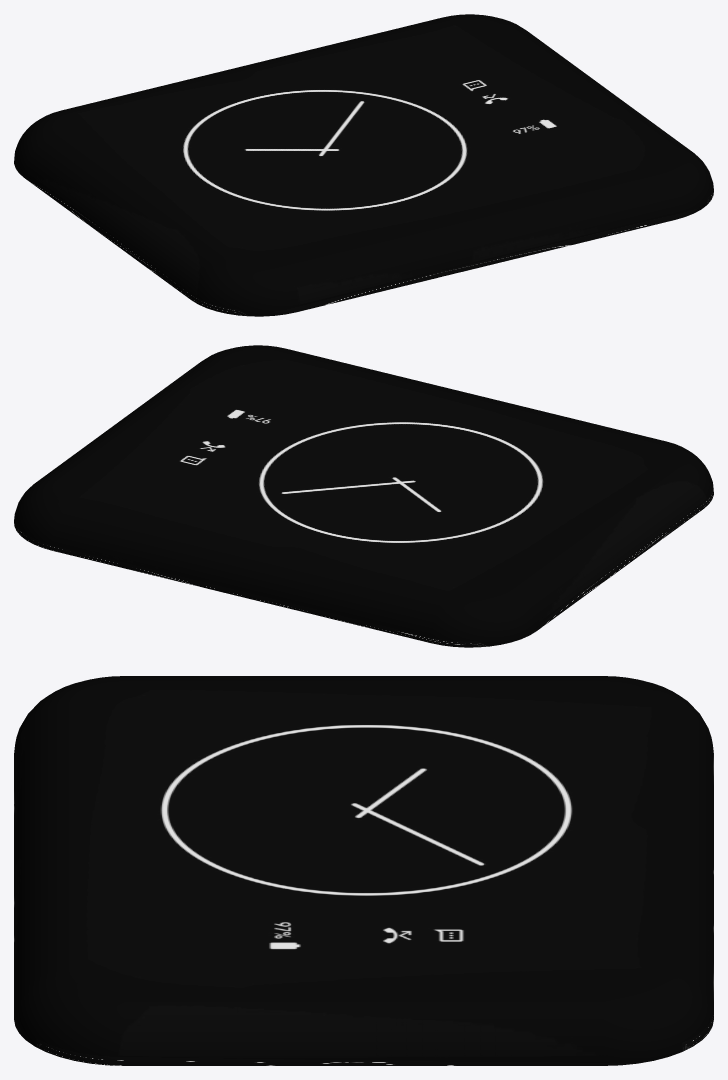
File: screen-l.glb
The picture shows the model from 3 angles, top to bottom: view 1: azimuth 30°, elevation 25°; view 2: azimuth 150°, elevation 25°; view 3: azimuth 270°, elevation 25°; orthographic projection. The views are drawn at different scales.
Visible parts, largest first — view 1: All; view 2: All; view 3: All.
Boxes of the visible parts, bbox=[...] form: All: bbox=[14, 14, 713, 316]; All: bbox=[14, 345, 713, 647]; All: bbox=[14, 676, 713, 1065].
Size of the model in its own units: 0.046 by 0.003 by 0.038.
1 material, 1 textured.
